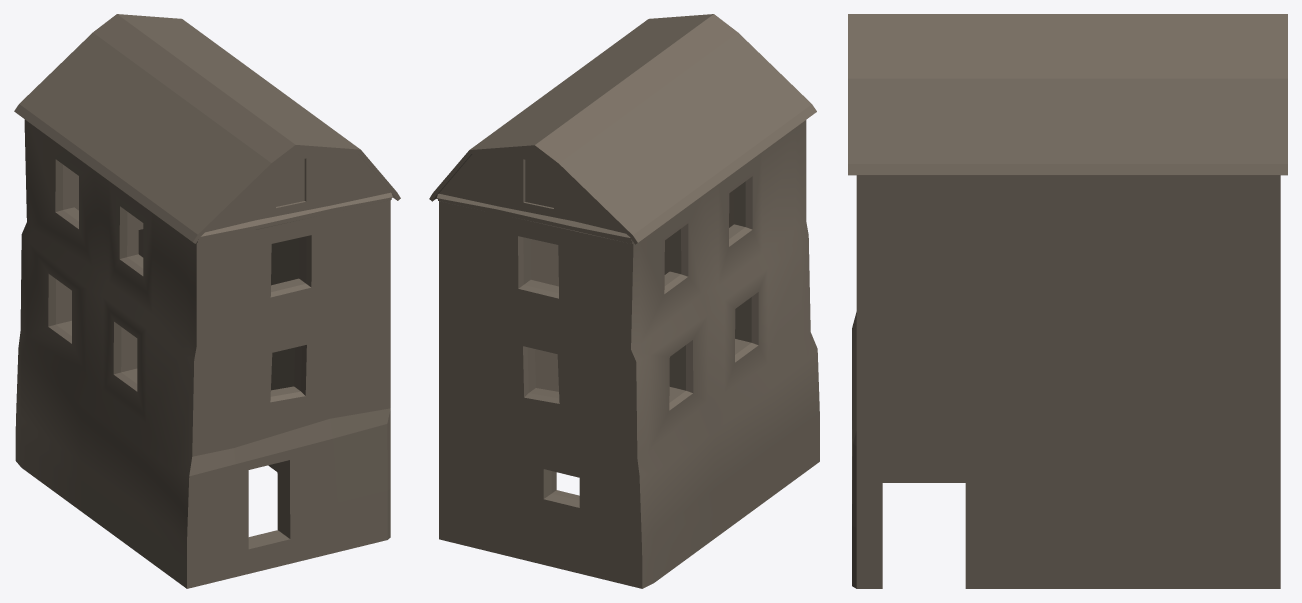
File: Building_B.fbx
The picture shows the model from 3 angles, left to right: view 1: azimuth 30°, elevation 25°; view 2: azimuth 150°, elevation 25°; view 3: azimuth 270°, elevation 25°; orthographic projection. The views are drawn at different scales.
Visible parts, largest first — view 1: Building_B; view 2: Building_B; view 3: Building_B.
Part boxes in pixels (<box>): Building_B: <box>14,14,400,588</box>; Building_B: <box>429,14,819,588</box>; Building_B: <box>848,14,1287,588</box>.
Bounding box in the file's own units: 583 × 1098 × 848.
